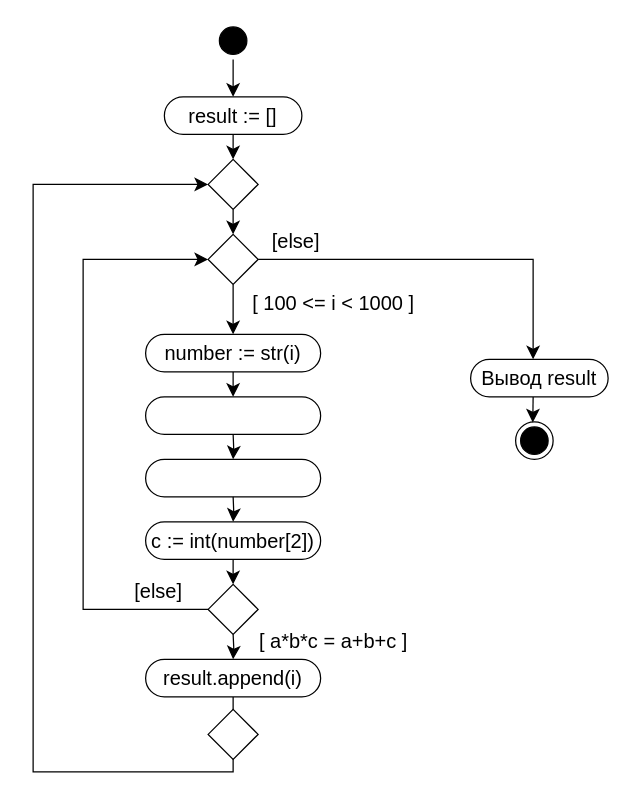
Some shapes in this 630 by 806 pixel diagram are drawn without their labels. Here are the shapes that lost their labels. From the top down, the centre of each, then its label:
point 232,415: a := int(number[0])
point 232,477: b := int(number[1])
